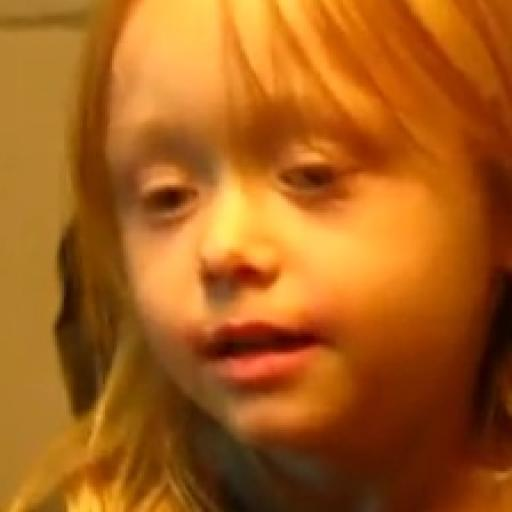Autism: (59, 0, 511, 418)
